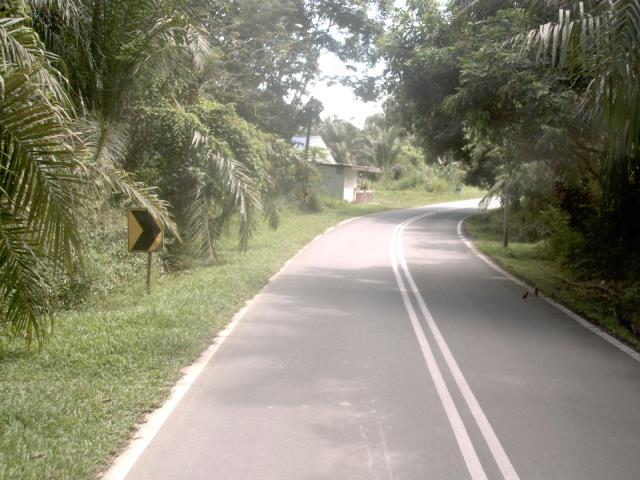traffic_sign: (117, 193, 173, 266)
